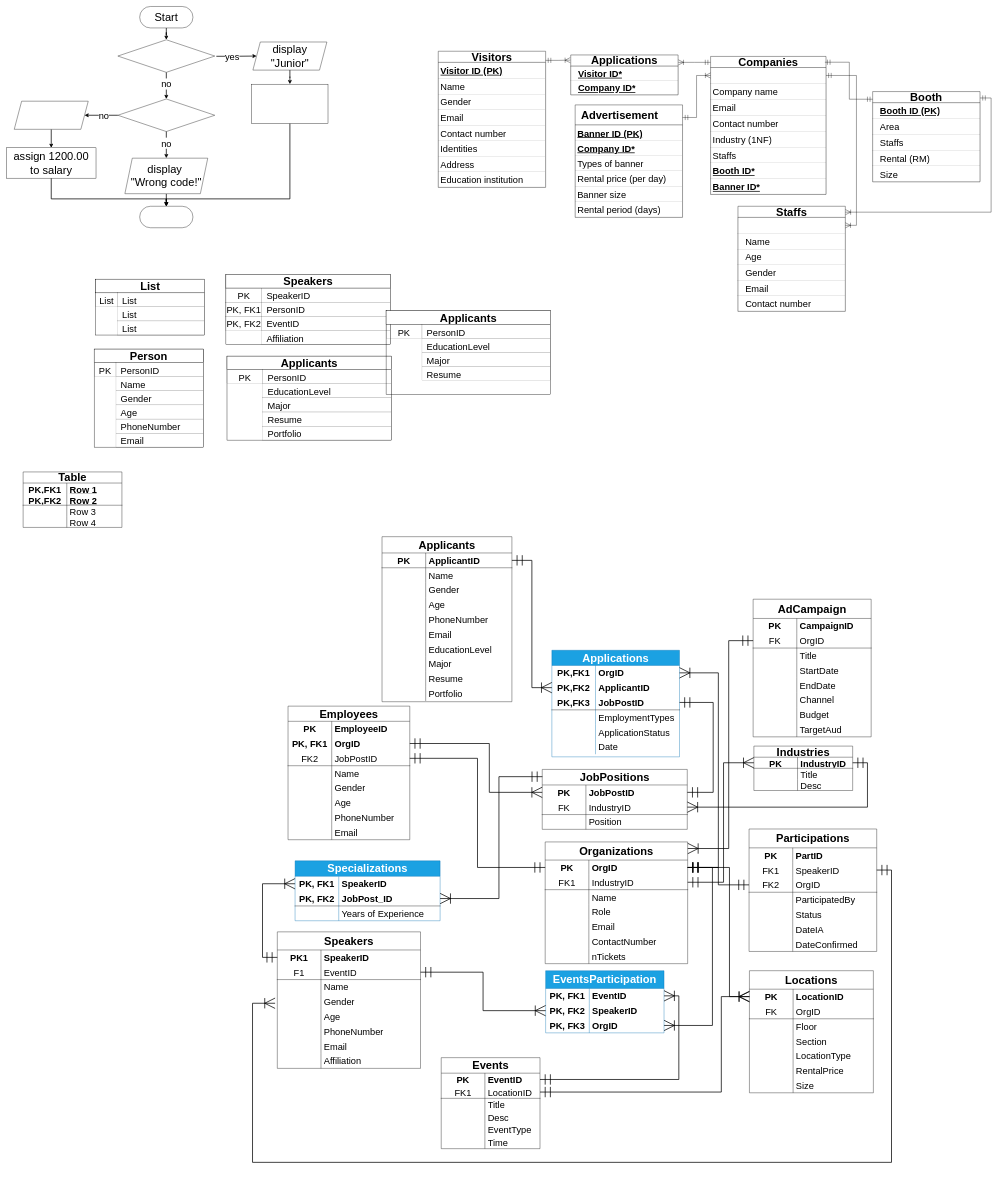
This 1003x1180 diagram has some shape labels left out. The centre of each missing label's shape, as x and y in pixels:
assign 800.00 to salary: point 289,103
code == 1: point 166,55
code == 2: point 166,115
Company ID (PK): point 768,75
display "Senior": point 51,115
End: point 166,217
Staff ID (PK): point 791,225
